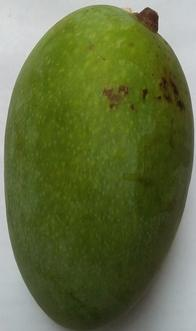Unripe: (0, 1, 196, 331)
